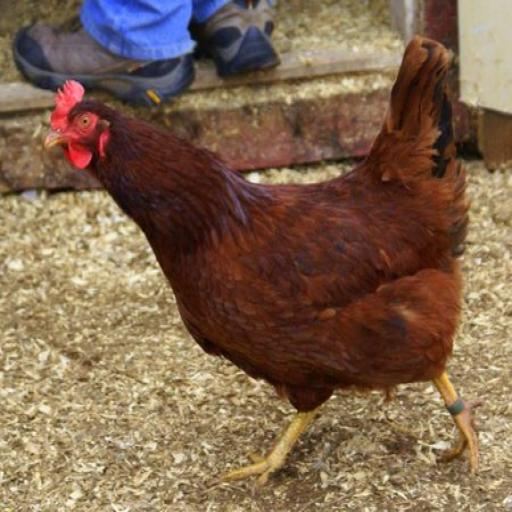healthy: (35, 70, 113, 181)
